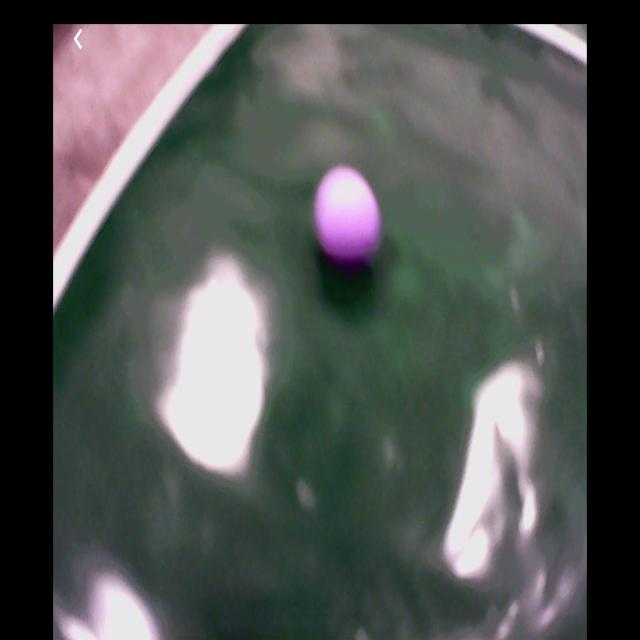ball: (313, 164, 384, 267)
